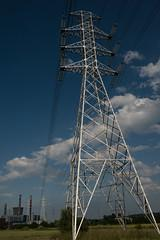power_tower: (57, 5, 160, 240)
